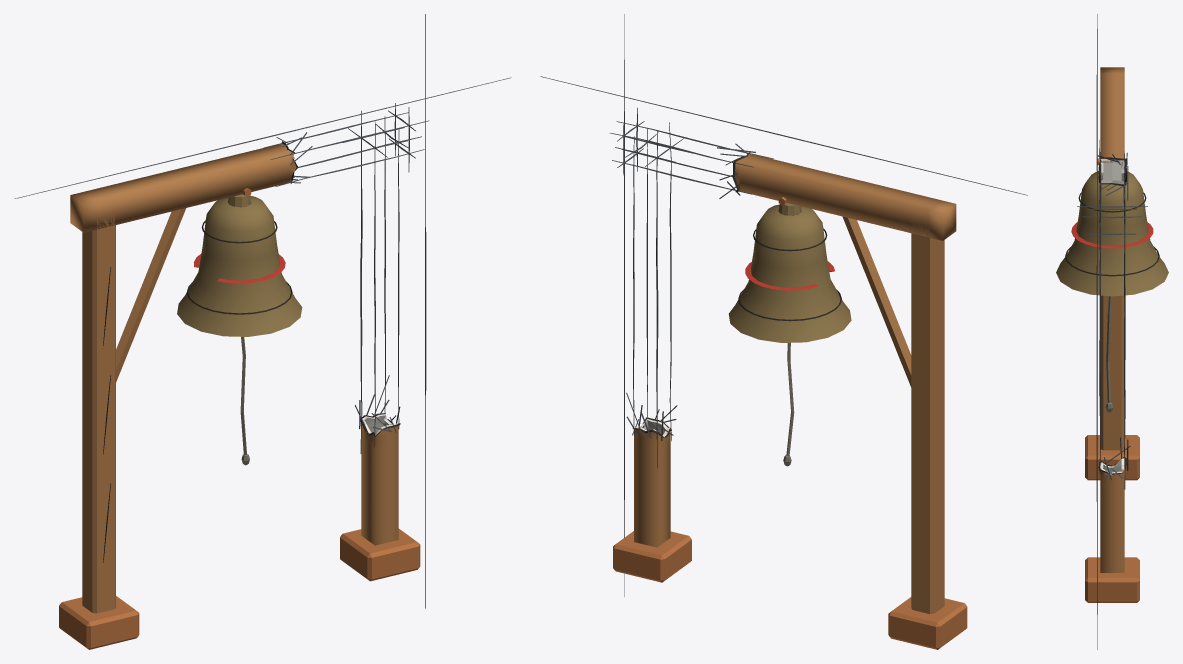
The model's file is Bell.fbx.
3 renders of one model, left to right at view 1: azimuth 30°, elevation 25°; view 2: azimuth 150°, elevation 25°; view 3: azimuth 270°, elevation 25°, orthographic. The views are drawn at different scales.
Parts seen in each view (by area): view 1: Frame, BellBody, Lines; view 2: Frame, BellBody, Lines; view 3: Frame, BellBody, Lines, Clapper.
Boxes of the visible parts, box(x1,y1,x2,y2) form: Frame: box(59, 143, 420, 649); BellBody: box(177, 188, 302, 336); Lines: box(14, 14, 511, 608); Frame: box(613, 153, 967, 649); BellBody: box(728, 197, 851, 342); Lines: box(540, 14, 1027, 596); Frame: box(1085, 67, 1139, 602); BellBody: box(1056, 158, 1168, 296); Lines: box(1065, 14, 1159, 649); Clapper: box(1105, 296, 1113, 412).
Size of the model in its own units: 3.36 by 3.84 by 0.74.
